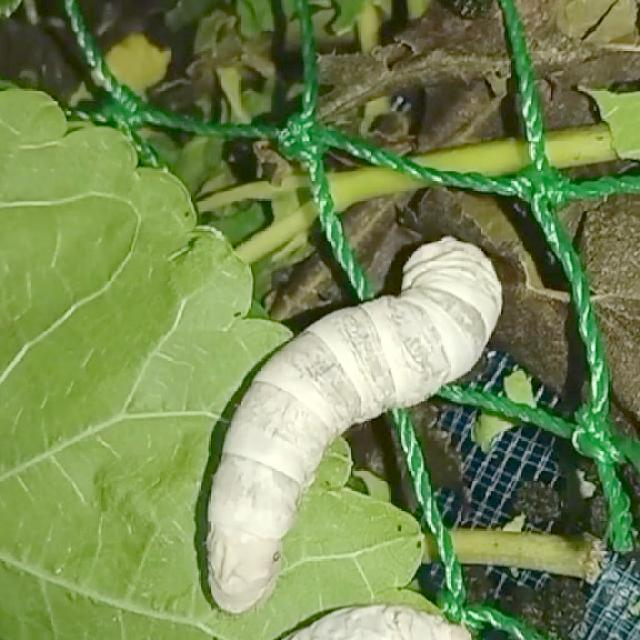Grasserie: (169, 190, 525, 625)
